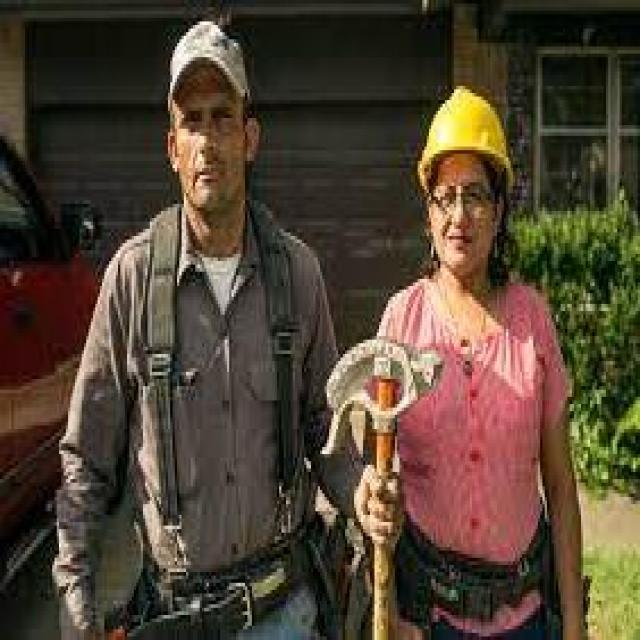Safety-Helmet: (404, 75, 529, 207)
